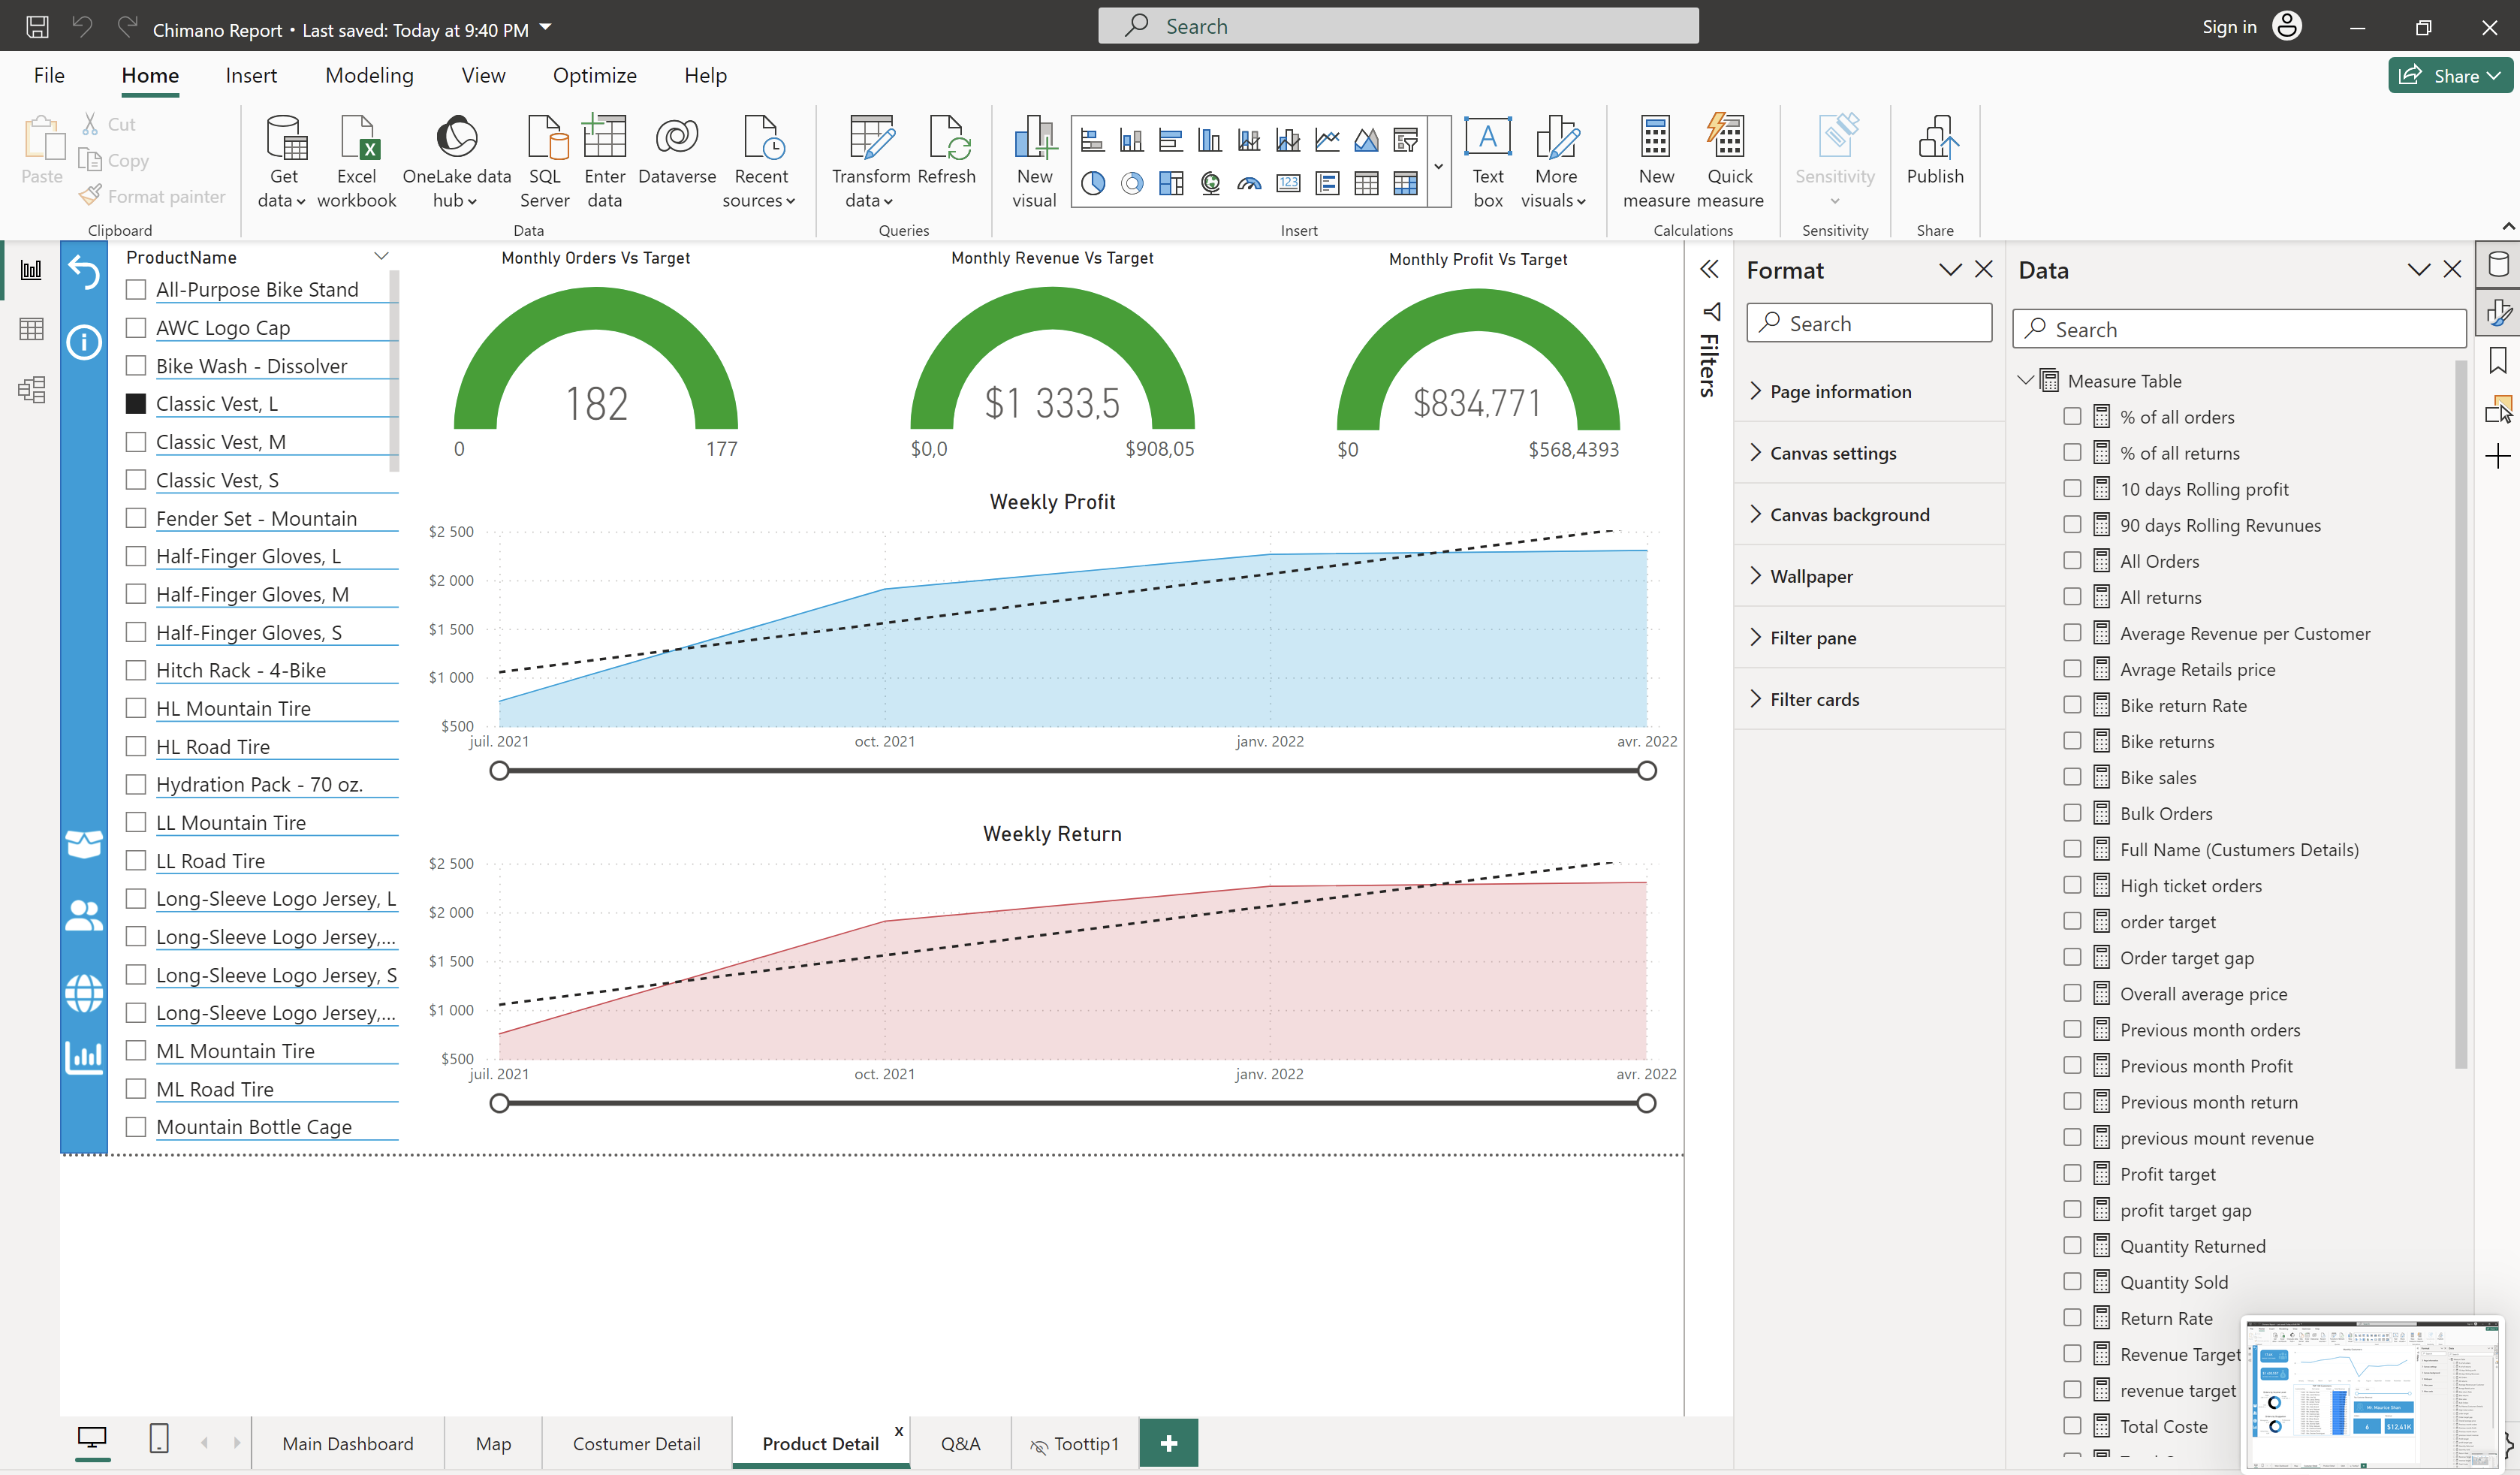

The dashboard page shown, as its layout file describes it:
{"tool":"powerbi","page":{"name":"Product Detail","canvas":[1280,720],"ordinal":3},"visuals":[{"type":"shape","title":"Side bar","box":[0,0,37.8,720],"z":0},{"type":"gauge","title":"Monthly  Orders  Vs Target","fields":{"MaxValue":["Measure Table.order target"],"Y":["Measure Table.Total Orders"]},"box":[305.3,6.1,234.2,190],"z":1000},{"type":"gauge","title":"Monthly  Revenue  Vs Target","fields":{"Y":["Measure Table.Total Revenue"],"MaxValue":["Measure Table.Revenue Targer"]},"box":[665.6,5.6,234.4,190],"z":2000},{"type":"gauge","title":"Monthly  Profit  Vs Target","fields":{"Y":["Measure Table.Total profit"],"MaxValue":["Measure Table.Profit target"]},"box":[1002.2,6.7,233.3,190],"z":3000},{"type":"areaChart","title":"Weekly Profit","fields":{"Y":["Measure Table.Total profit"],"Category":["Calendar Lookup.Date.Variation.Date Hierarchy.Year","Calendar Lookup.Date.Variation.Date Hierarchy.Quarter","Calendar Lookup.Date.Variation.Date Hierarchy.Month","Calendar Lookup.Date.Variation.Date Hierarchy.Day"]},"box":[285.1,196.4,994.9,232.3],"z":4000},{"type":"areaChart","title":"Weekly Return","fields":{"Y":["Measure Table.Total profit"],"Category":["Calendar Lookup.Date.Variation.Date Hierarchy.Year","Calendar Lookup.Date.Variation.Date Hierarchy.Quarter","Calendar Lookup.Date.Variation.Date Hierarchy.Month","Calendar Lookup.Date.Variation.Date Hierarchy.Day"]},"box":[285.7,458.5,994.3,233],"z":5000},{"type":"slicer","fields":{"Values":["Product Lookup.ProductName"]},"box":[38.9,0,233.3,720],"z":6000},{"type":"actionButton","box":[0,572.7,38.2,40.9],"z":7000},{"type":"actionButton","box":[0,456.4,38.2,40.9],"z":8000},{"type":"actionButton","box":[0,511.8,38.2,40.9],"z":9000},{"type":"actionButton","box":[0,623.6,38.2,40.9],"z":10000},{"type":"actionButton","box":[0,5.6,37.8,37.8],"z":11000},{"type":"actionButton","box":[0,60.4,38.1,39.9],"z":12000}]}

Visuals, with their boxes on the page's 1280x720 design canvas (x1, y1, x2, y2). These are canvas units, not pixel positions in the 2520x1475 screenshot, which may show the page scaled, cropped or inside an application window:
"Side bar" shape: (0, 0, 38, 720)
"Monthly  Orders  Vs Target" gauge: (305, 6, 540, 196)
"Monthly  Revenue  Vs Target" gauge: (666, 6, 900, 196)
"Monthly  Profit  Vs Target" gauge: (1002, 7, 1236, 197)
"Weekly Profit" areaChart: (285, 196, 1280, 429)
"Weekly Return" areaChart: (286, 458, 1280, 692)
slicer - Product Lookup.ProductName: (39, 0, 272, 720)
actionButton: (0, 573, 38, 614)
actionButton: (0, 456, 38, 497)
actionButton: (0, 512, 38, 553)
actionButton: (0, 624, 38, 664)
actionButton: (0, 6, 38, 43)
actionButton: (0, 60, 38, 100)
